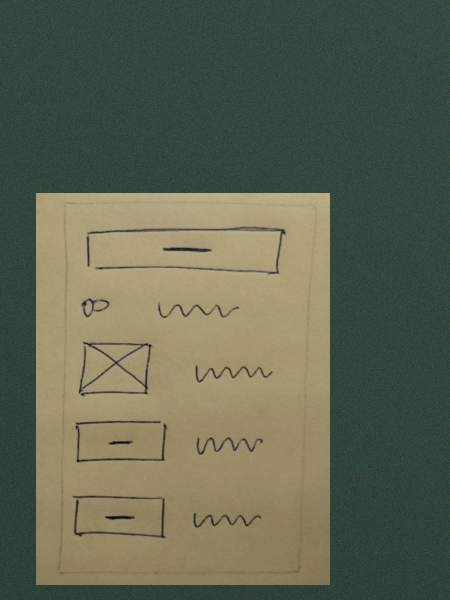button: (82, 224, 286, 279), (71, 416, 170, 468), (71, 489, 170, 541)
image: (73, 337, 156, 402)
switch: (71, 294, 124, 324)
text: (182, 502, 271, 531), (153, 295, 241, 324), (188, 357, 276, 386), (186, 429, 274, 458)
